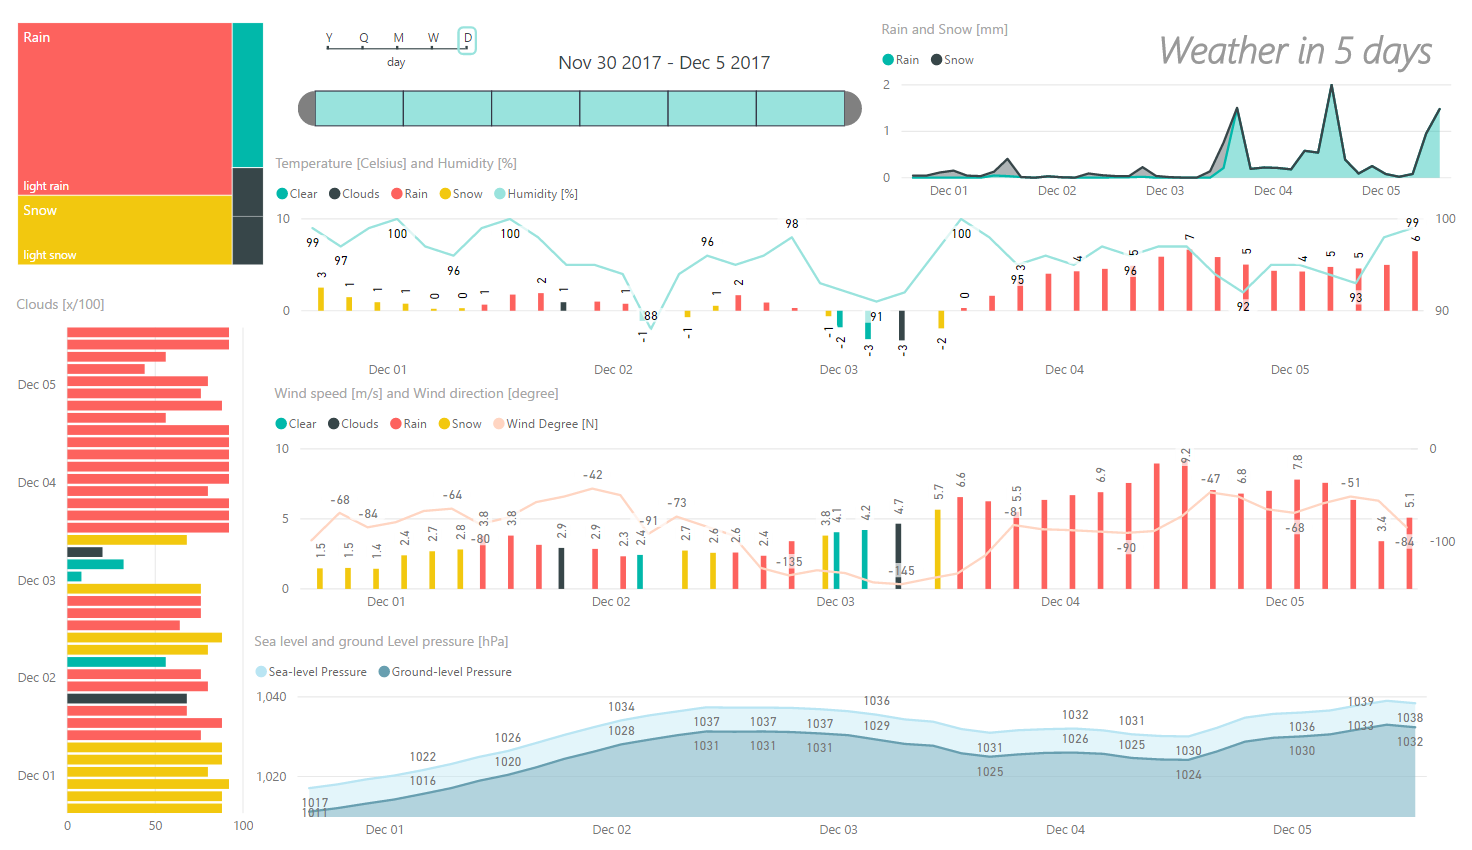

This screenshot's page, from the dashboard's own definition file:
{"tool":"powerbi","page":{"name":"weather forcast","canvas":[1280,720],"ordinal":1},"visuals":[{"type":"lineClusteredColumnComboChart","fields":{"Y2":["Sum(weatherData.humidity)"],"Y":["Sum(weatherData.temperature)"],"Series":["weatherData.cond"],"Category":["weatherData.client_time"]},"box":[236.8,117.6,1030.3,204.8],"z":0},{"type":"treemap","fields":{"Group":["weatherData.cond"],"Details":["weatherData.condition"],"Values":["CountNonNull(weatherData.condition)"]},"box":[13.7,0,222.9,219.4],"z":6},{"type":"stackedAreaChart","fields":{"Category":["weatherData.client_time"],"Y":["Sum(weatherData.rain)","Sum(weatherData.snow)"]},"box":[760.8,1.6,509.8,166.3],"z":8},{"type":"textbox","box":[1000.1,0,279.9,59.4],"z":9},{"type":"lineClusteredColumnComboChart","fields":{"Y":["Sum(weatherData.wind_speed)"],"Y2":["Sum(weatherData.wind_degree)"],"Series":["weatherData.cond"],"Category":["weatherData.client_time"]},"box":[236,316.4,1031.2,206.6],"z":2000},{"type":"areaChart","fields":{"Category":["weatherData.client_time"],"Y":["Sum(weatherData.sea_level)","Sum(weatherData.pressure)"]},"box":[218.7,530.7,1030.3,189.3],"z":3000},{"type":"Timeline1447991079100","fields":{"Time":["weatherData.client_time"]},"box":[255.7,0,512.9,120.8],"z":4000},{"type":"barChart","fields":{"Y":["Sum(weatherData.clouds)"],"Series":["weatherData.cond"],"Category":["weatherData.client_time"]},"box":[12.8,239.6,215.7,477.5],"z":5000}]}

Visuals, with their boxes in screenshot pixels (x1, y1, x2, y2), scaled from the page's 1280x720 canvas onto the 1472x850 screenshot:
lineClusteredColumnComboChart - Sum(weatherData.humidity) x Sum(weatherData.temperature): crop(272, 139, 1457, 381)
treemap - weatherData.cond x weatherData.condition: crop(16, 0, 272, 259)
stackedAreaChart - weatherData.client_time x Sum(weatherData.rain): crop(875, 2, 1461, 198)
textbox: crop(1150, 0, 1471, 70)
lineClusteredColumnComboChart - Sum(weatherData.wind_speed) x Sum(weatherData.wind_degree): crop(271, 374, 1457, 617)
areaChart - weatherData.client_time x Sum(weatherData.sea_level): crop(252, 627, 1436, 849)
Timeline1447991079100 - weatherData.client_time: crop(294, 0, 884, 143)
barChart - Sum(weatherData.clouds) x weatherData.cond: crop(15, 283, 263, 847)
